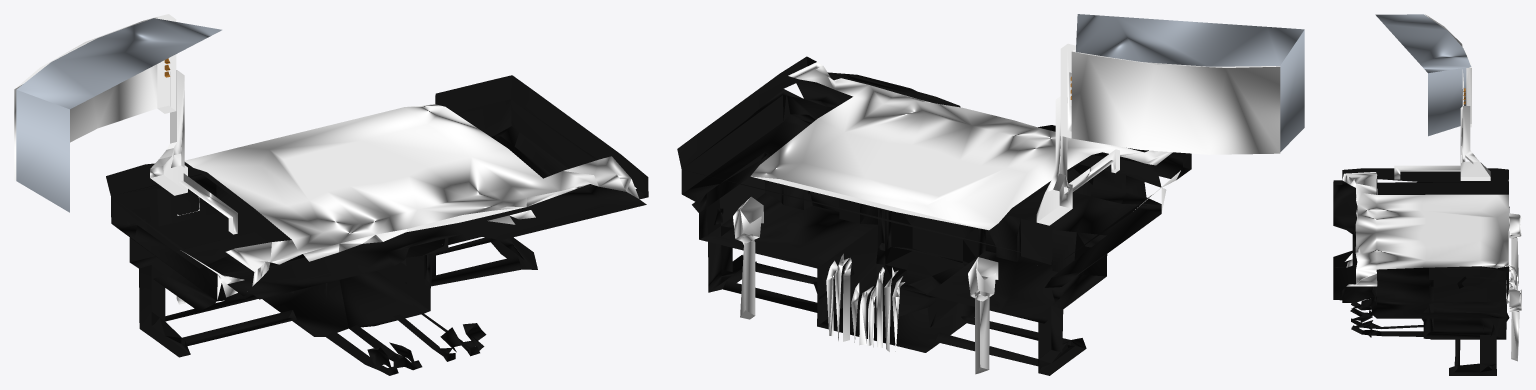
Rendered from uee_asteroid_hangar_control_desk_a.glb.
The picture shows the model from 3 angles, left to right: view 1: azimuth 30°, elevation 25°; view 2: azimuth 150°, elevation 25°; view 3: azimuth 270°, elevation 25°; orthographic projection. The views are drawn at different scales.
Parts seen in each view (by area): view 1: object 1, object 38, object 25; view 2: object 1, object 38, object 25; view 3: object 1, object 38, object 25.
Boxes of the visible parts, x1,y1,x2,y2 form: object 1: (106,58,648,375); object 38: (14,18,221,212); object 25: (15,14,237,304); object 1: (677,56,1191,375); object 38: (1071,14,1304,154); object 25: (733,43,1275,374); object 1: (1333,88,1509,375); object 38: (1375,14,1471,136); object 25: (1394,14,1521,361).
Bounding box in the file's own units: 3.79 × 2.14 × 1.79.
